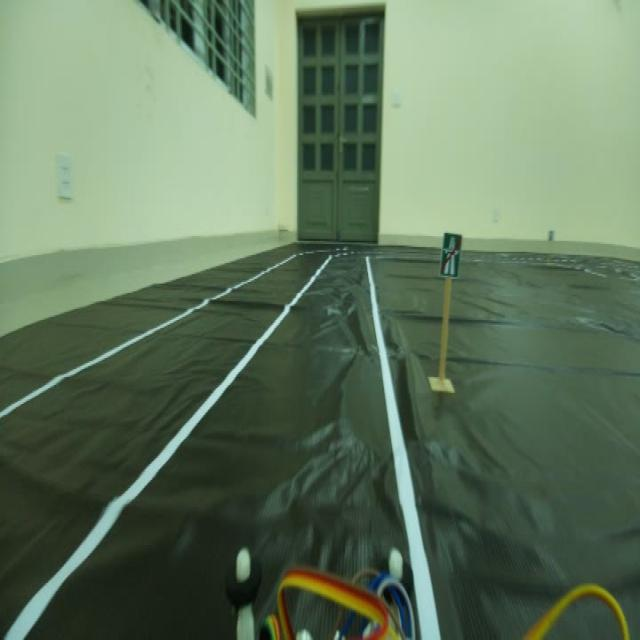highway_exit: (436, 217, 466, 284)
